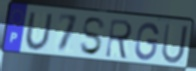7: (57, 12, 78, 55)
G: (133, 22, 161, 62)
R: (104, 18, 135, 61)
S: (79, 16, 107, 57)
U: (160, 22, 190, 65), (24, 12, 55, 52)
